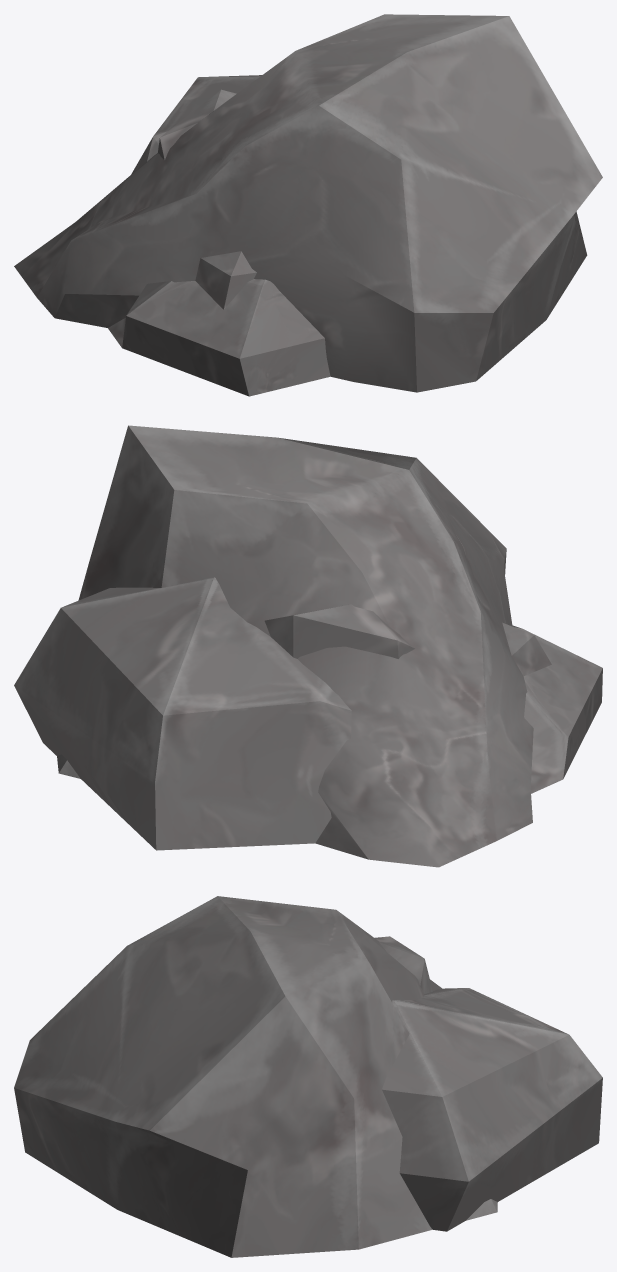
The model's file is Rocks.fbx.
The picture shows the model from 3 angles, top to bottom: view 1: azimuth 30°, elevation 25°; view 2: azimuth 150°, elevation 25°; view 3: azimuth 270°, elevation 25°; orthographic projection. The views are drawn at different scales.
Visible parts, largest first — view 1: Rock_4, Rock_3, Rock_2; view 2: Rock_4, Rock_3, Rock_2; view 3: Rock_4, Rock_3, Rock_2.
Boxes of the visible parts, x1,y1,x2,y2 form: Rock_4: (14, 14, 602, 392); Rock_3: (108, 75, 330, 396); Rock_2: (157, 89, 256, 309); Rock_4: (57, 425, 533, 867); Rock_3: (14, 577, 602, 850); Rock_2: (264, 604, 551, 676); Rock_4: (14, 896, 497, 1257); Rock_3: (382, 988, 602, 1231); Rock_2: (375, 936, 432, 993).
Bounding box in the file's own units: 3.13 × 3.38 × 1.53.
1 material, 1 textured.
